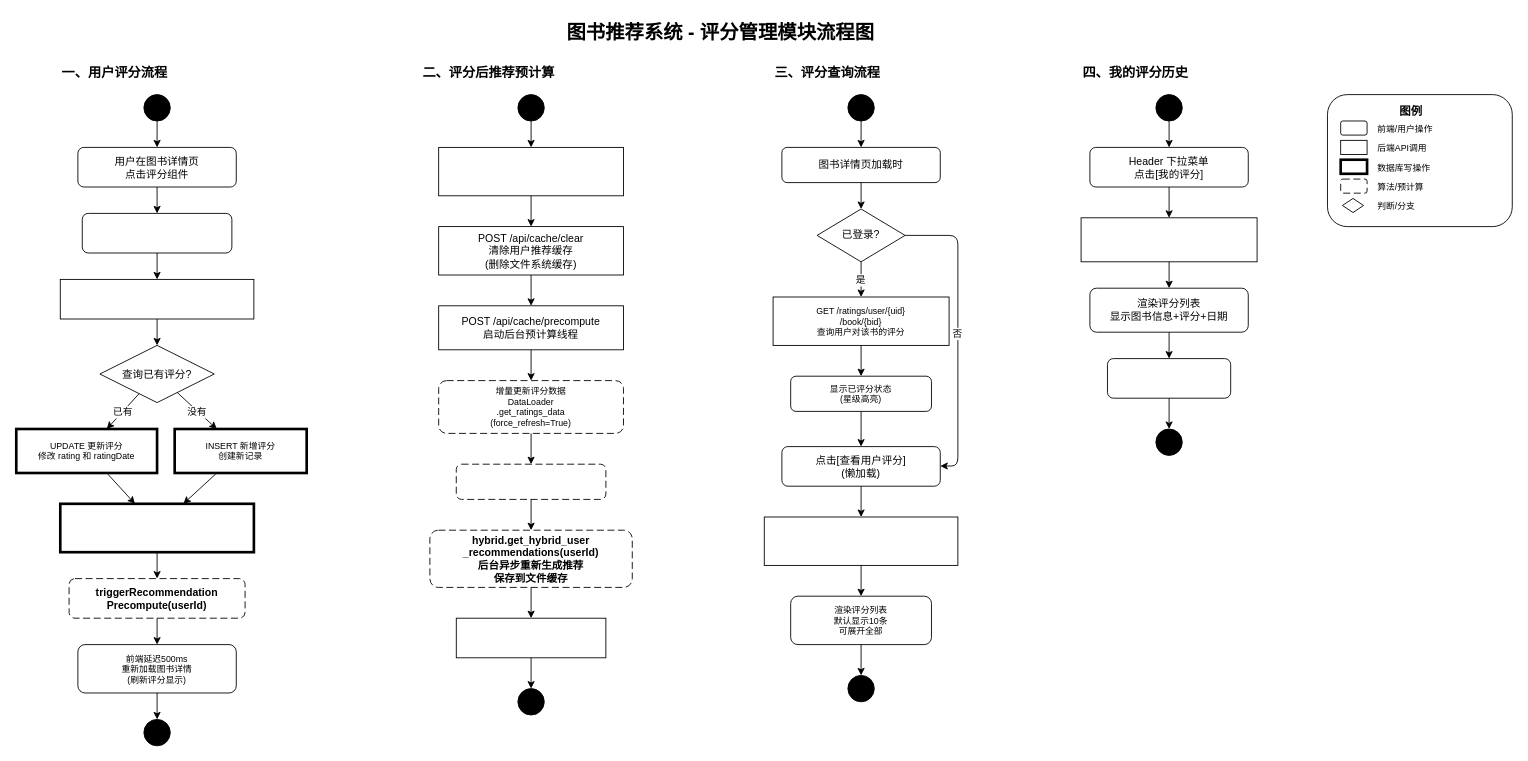
This 1528x761 diagram has some shape labels left out. The shapes that lost their labels are listed below. From the top down, each one's centre as x and y in pixels, then its label:
At point (530, 171): "RatingService triggerRecommendation Precompute(userId)".
At point (156, 233): "选择评分(0-5分 支持0.5分间隔)".
At point (1168, 239): "GET /users/{userId}/ratings 加载用户全部评分历史".
At point (156, 299): "POST /api/ratings/rate rateBook(userId, bookId, rating)".
At point (1169, 378): "点击图书 跳转图书详情".
At point (530, 481): "同步更新 hybrid 数据引用".
At point (157, 527): "updateBookRatingStats() 重新计算图书 avg_rating 和 rating_count".
At point (860, 540): "GET /books/{id}/ratings 获取评分列表(含用户信息) username/location/country".
At point (530, 637): "下次访问推荐页 直接命中缓存".
